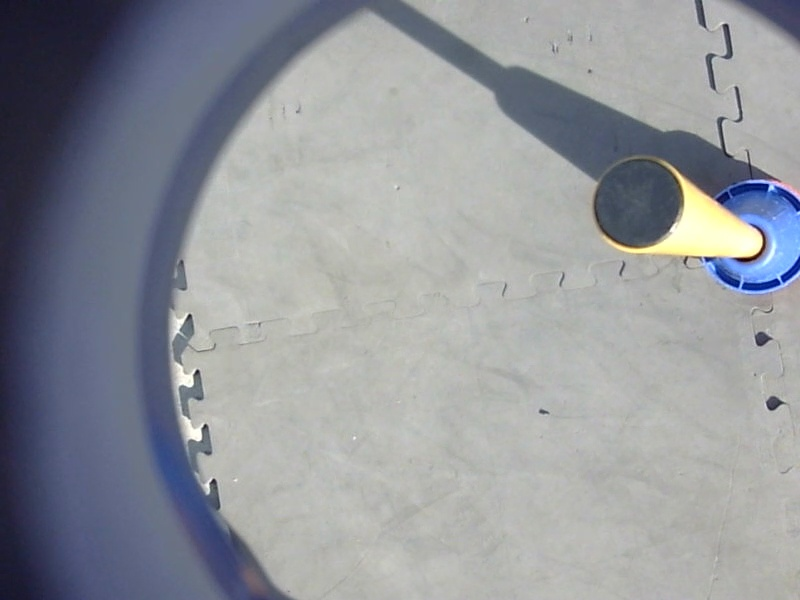tip: (582, 150, 691, 257)
